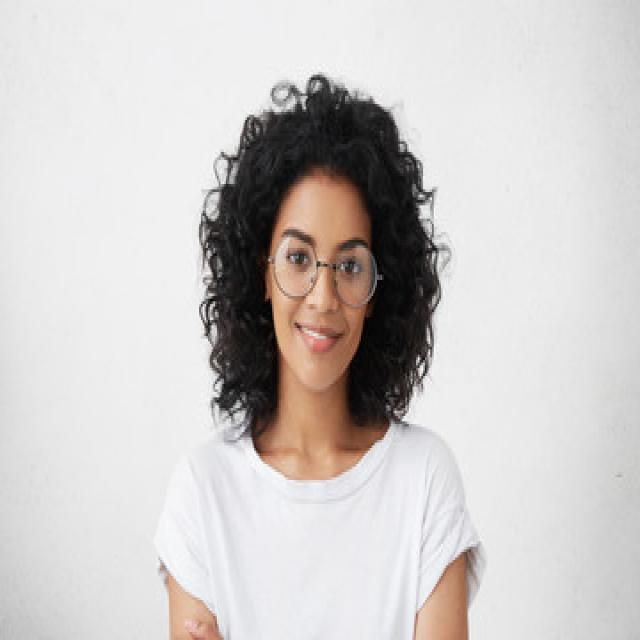person-without-mask: (130, 73, 513, 640)
